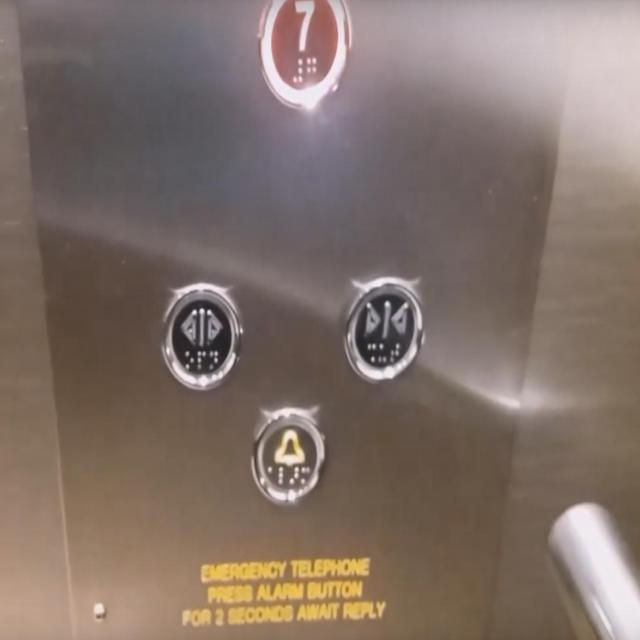7: (254, 2, 352, 116)
alarm: (248, 404, 328, 509)
close: (341, 271, 428, 389)
open: (156, 277, 246, 394)
